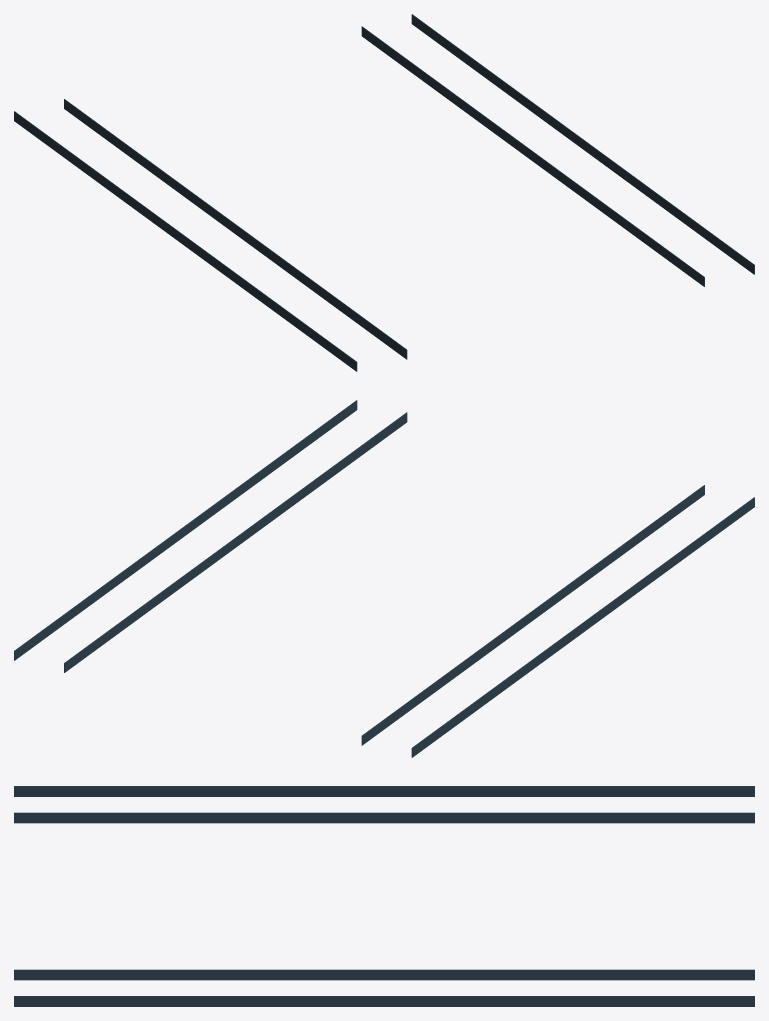
File: v02-00-04-steel.glb
The picture shows the model from 3 angles, top to bottom: view 1: azimuth 30°, elevation 25°; view 2: azimuth 150°, elevation 25°; view 3: azimuth 270°, elevation 25°; orthographic projection. The views are drawn at different scales.
Visible parts, largest first — view 1: v02-00-04-steel; view 2: v02-00-04-steel; view 3: v02-00-04-steel.
Boxes of the visible parts, x1,y1,x2,y2 form: v02-00-04-steel: (14,14,754,371); v02-00-04-steel: (14,400,754,757); v02-00-04-steel: (14,786,754,1006).
Size of the model in its own units: 46.98 by 1.1 by 70.
